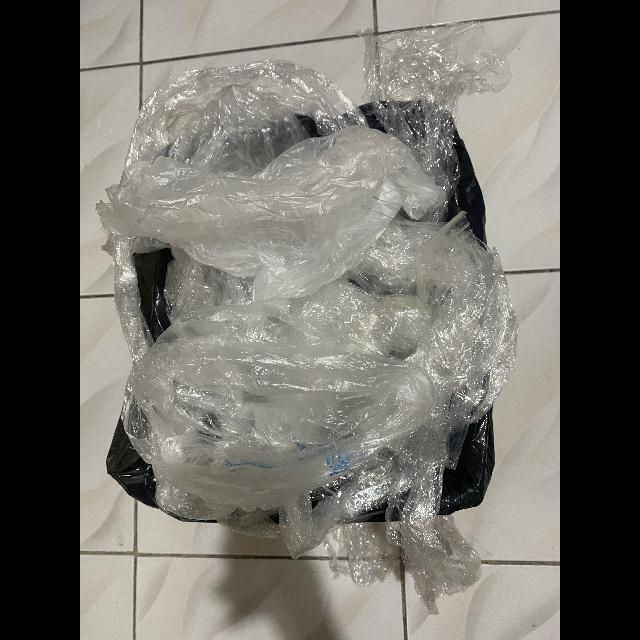plastic: (108, 216, 518, 604), (120, 307, 430, 523), (96, 125, 449, 279), (354, 21, 512, 202), (125, 62, 363, 180), (263, 212, 446, 360), (103, 232, 153, 363), (164, 248, 254, 319)
